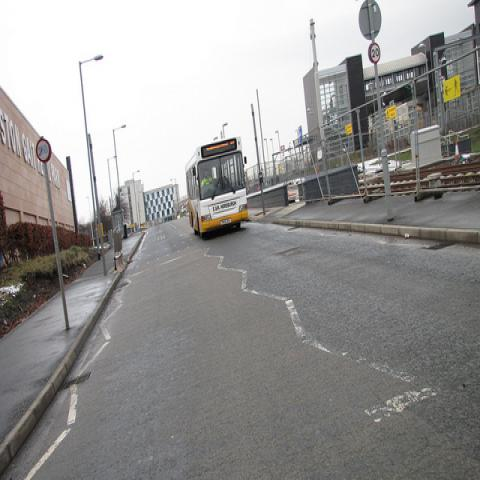bus: (185, 136, 249, 237)
